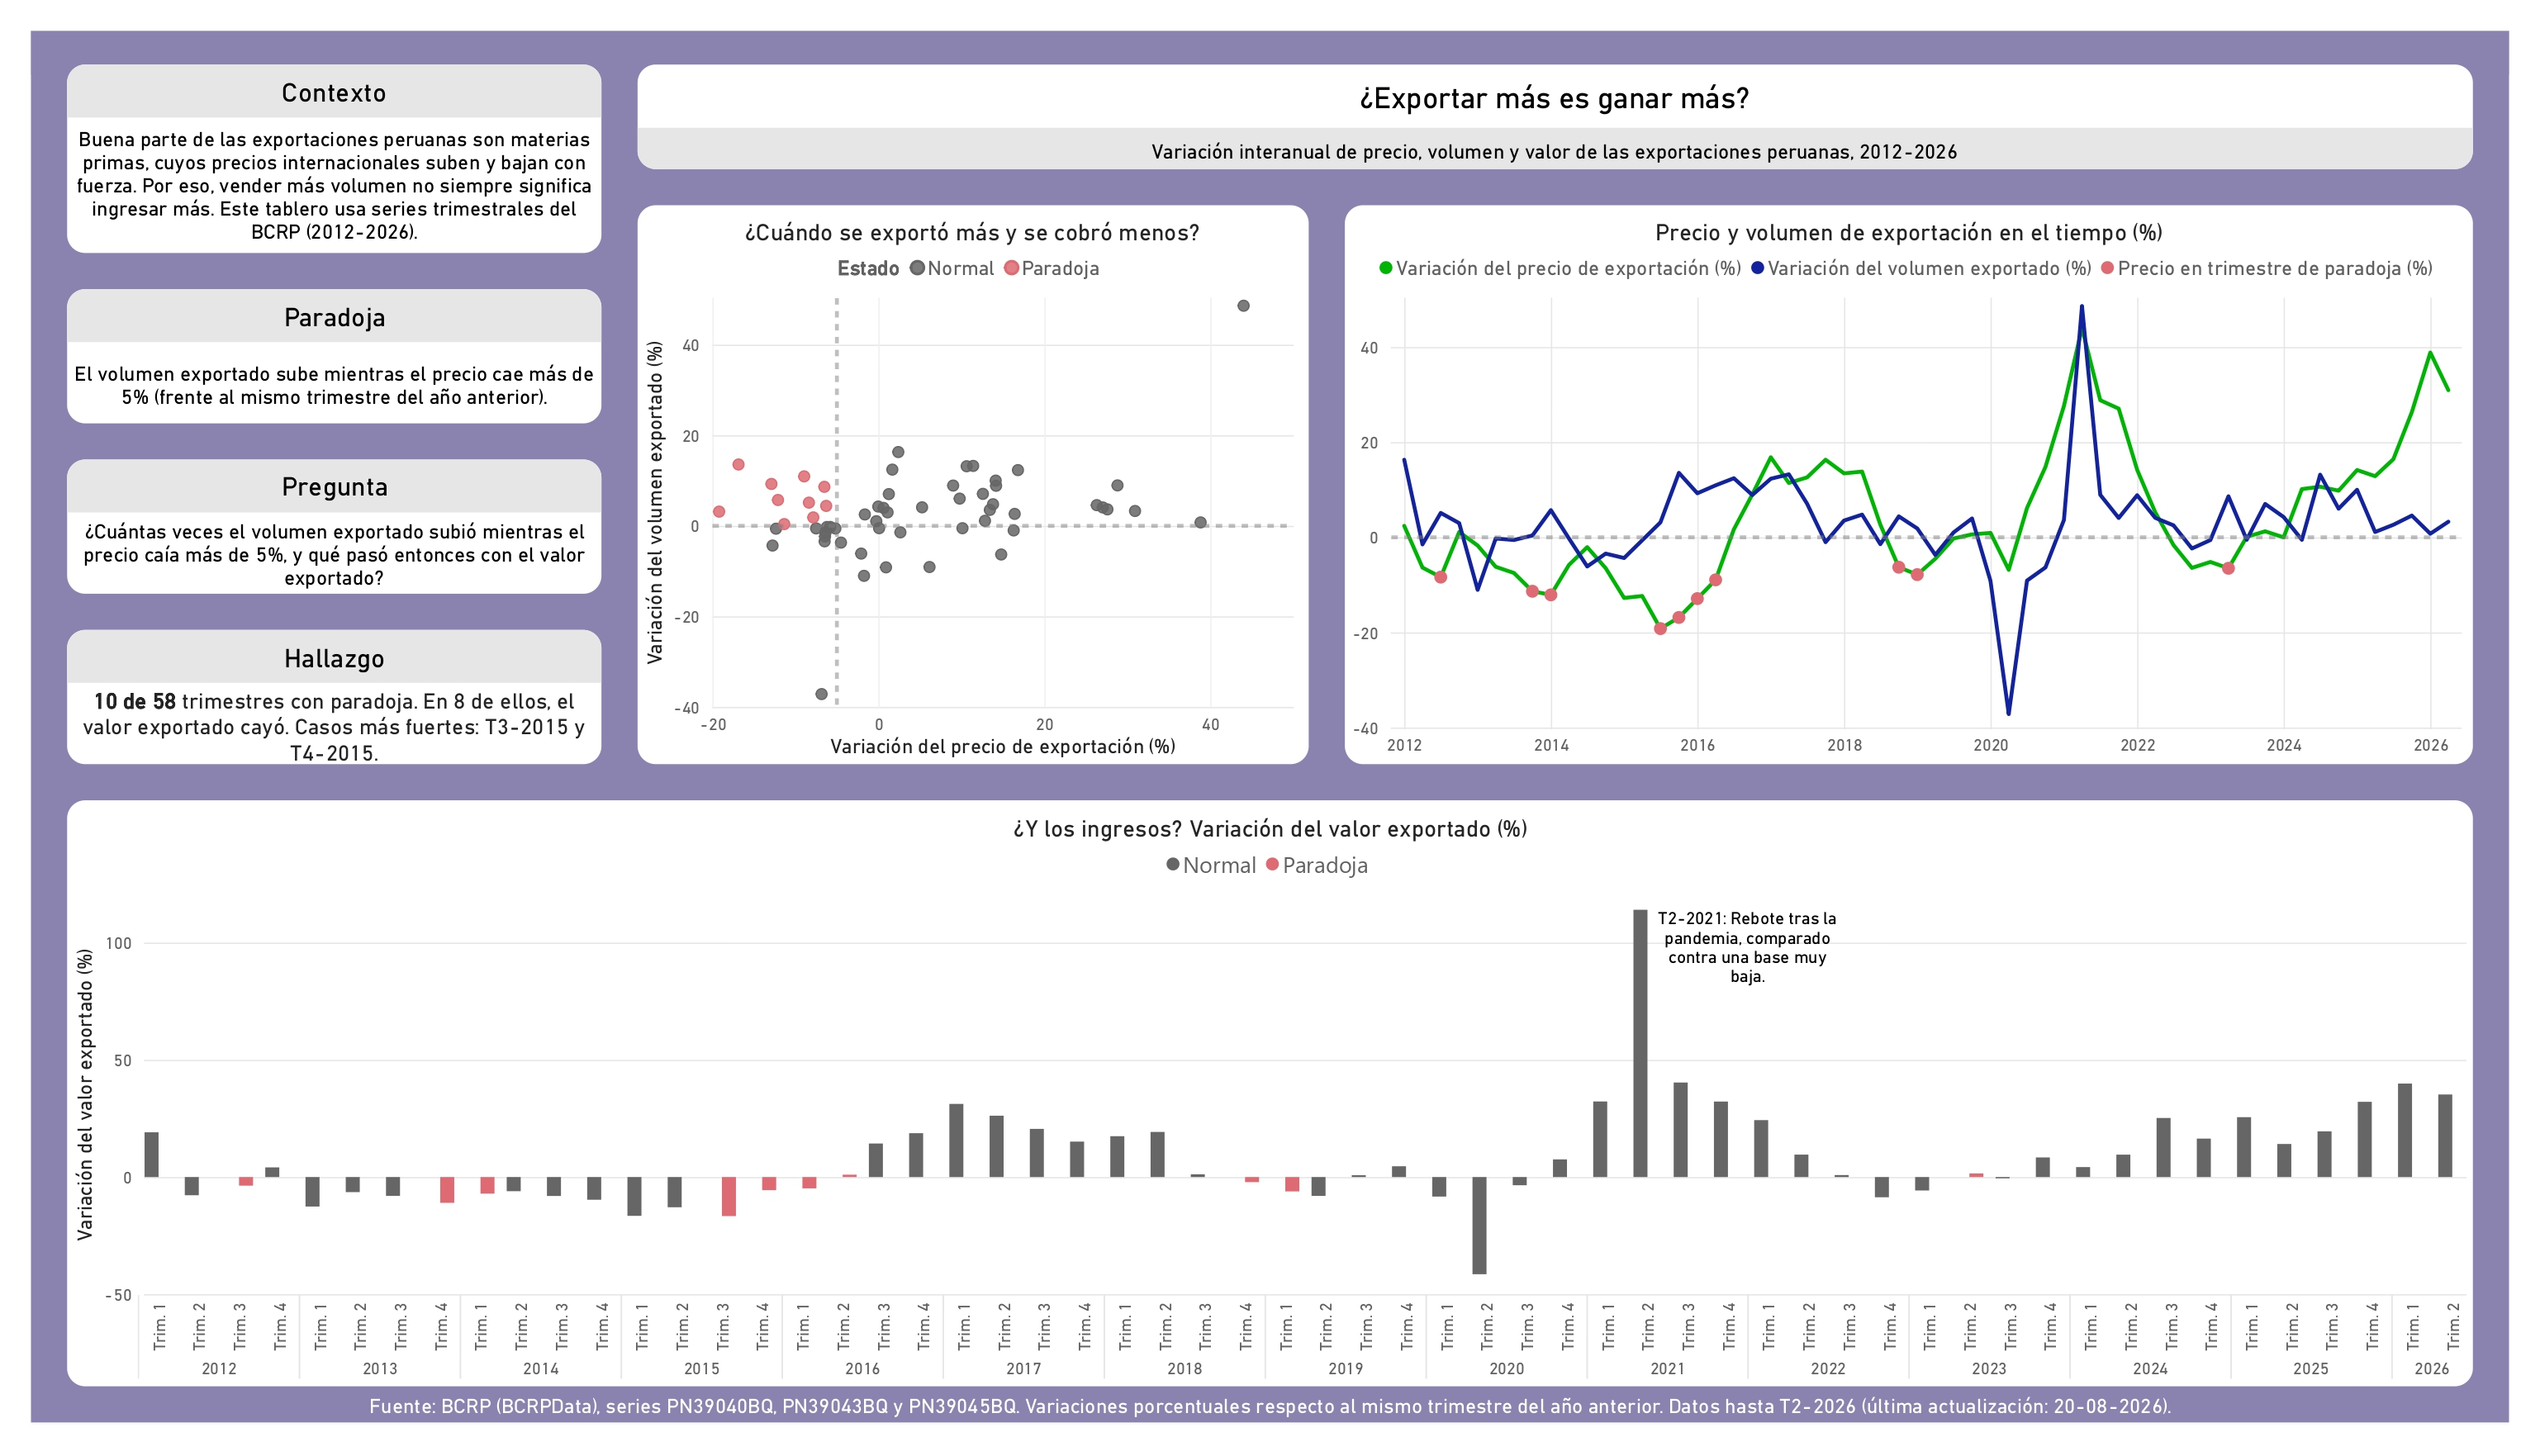

What the dashboard file says about the page in this screenshot:
{"tool":"powerbi","page":{"name":"Paradoja","canvas":[1920,1080],"ordinal":0},"visuals":[{"type":"clusteredColumnChart","title":"¿Y los ingresos? Variación del valor exportado (%)","fields":{"Category":["comercio_exterior.Año","comercio_exterior.Trimestre"],"Series":["comercio_exterior.Estado"],"Y":["Avg(comercio_exterior.valor_x_var)"]},"box":[27.6,597.1,1864.1,454.1],"z":0},{"type":"scatterChart","title":"¿Cuándo se exportó más y se cobró menos?","fields":{"Category":["comercio_exterior.Fecha.Variación.Jerarquía de fechas.Año","comercio_exterior.Fecha.Variación.Jerarquía de fechas.Trimestre"],"Series":["comercio_exterior.Estado"],"X":["Avg(comercio_exterior.precio_x_var)"],"Y":["Avg(comercio_exterior.volumen_x_var)"]},"box":[469.2,135.4,520.8,433.1],"z":1000},{"type":"lineChart","title":"Precio y volumen de exportación en el tiempo (%)","fields":{"Category":["comercio_exterior.fecha.Variación.Jerarquía de fechas.Año","comercio_exterior.fecha.Variación.Jerarquía de fechas.Trimestre"],"Y":["Avg(comercio_exterior.precio_x_var)","Avg(comercio_exterior.volumen_x_var)","comercio_exterior.Precio en paradoja"]},"box":[1017.7,135.4,873.8,433.8],"z":2000},{"type":"shape","box":[468.9,26.7,1423.3,50],"z":3000},{"type":"shape","box":[1256.5,679.6,147.1,62.9],"z":4000},{"type":"shape","box":[0,1051,1920.3,27.7],"z":5000},{"type":"shape","box":[27.4,26.8,415.3,41.1],"z":6000},{"type":"shape","box":[27.9,332.1,414.7,41],"z":7000},{"type":"shape","box":[27.9,464.7,414.7,41],"z":8000},{"type":"shape","box":[27.9,67.9,414.2,105.3],"z":9000},{"type":"shape","box":[27.9,373.2,414.2,63.7],"z":10000},{"type":"shape","box":[27.9,200.5,414.7,41],"z":12000},{"type":"shape","box":[27.9,241.6,414.2,63.7],"z":13000},{"type":"shape","box":[469,76.5,1422.5,32],"z":14000},{"type":"textbox","box":[27.8,505.6,414.4,63.3],"z":15000}]}

Visuals, with their boxes in screenshot pixels (x1, y1, x2, y2):
"¿Y los ingresos? Variación del valor exportado (%)" clusteredColumnChart: BBox(69, 792, 2501, 1384)
"¿Cuándo se exportó más y se cobró menos?" scatterChart: BBox(645, 190, 1325, 755)
"Precio y volumen de exportación en el tiempo (%)" lineChart: BBox(1360, 190, 2501, 756)
shape: BBox(645, 48, 2502, 113)
shape: BBox(1673, 899, 1864, 982)
shape: BBox(33, 1384, 2538, 1420)
shape: BBox(69, 48, 610, 102)
shape: BBox(69, 447, 610, 500)
shape: BBox(69, 619, 610, 673)
shape: BBox(69, 102, 610, 240)
shape: BBox(69, 500, 610, 583)
shape: BBox(69, 275, 610, 328)
shape: BBox(69, 329, 610, 411)
shape: BBox(645, 113, 2501, 154)
textbox: BBox(69, 673, 610, 756)
